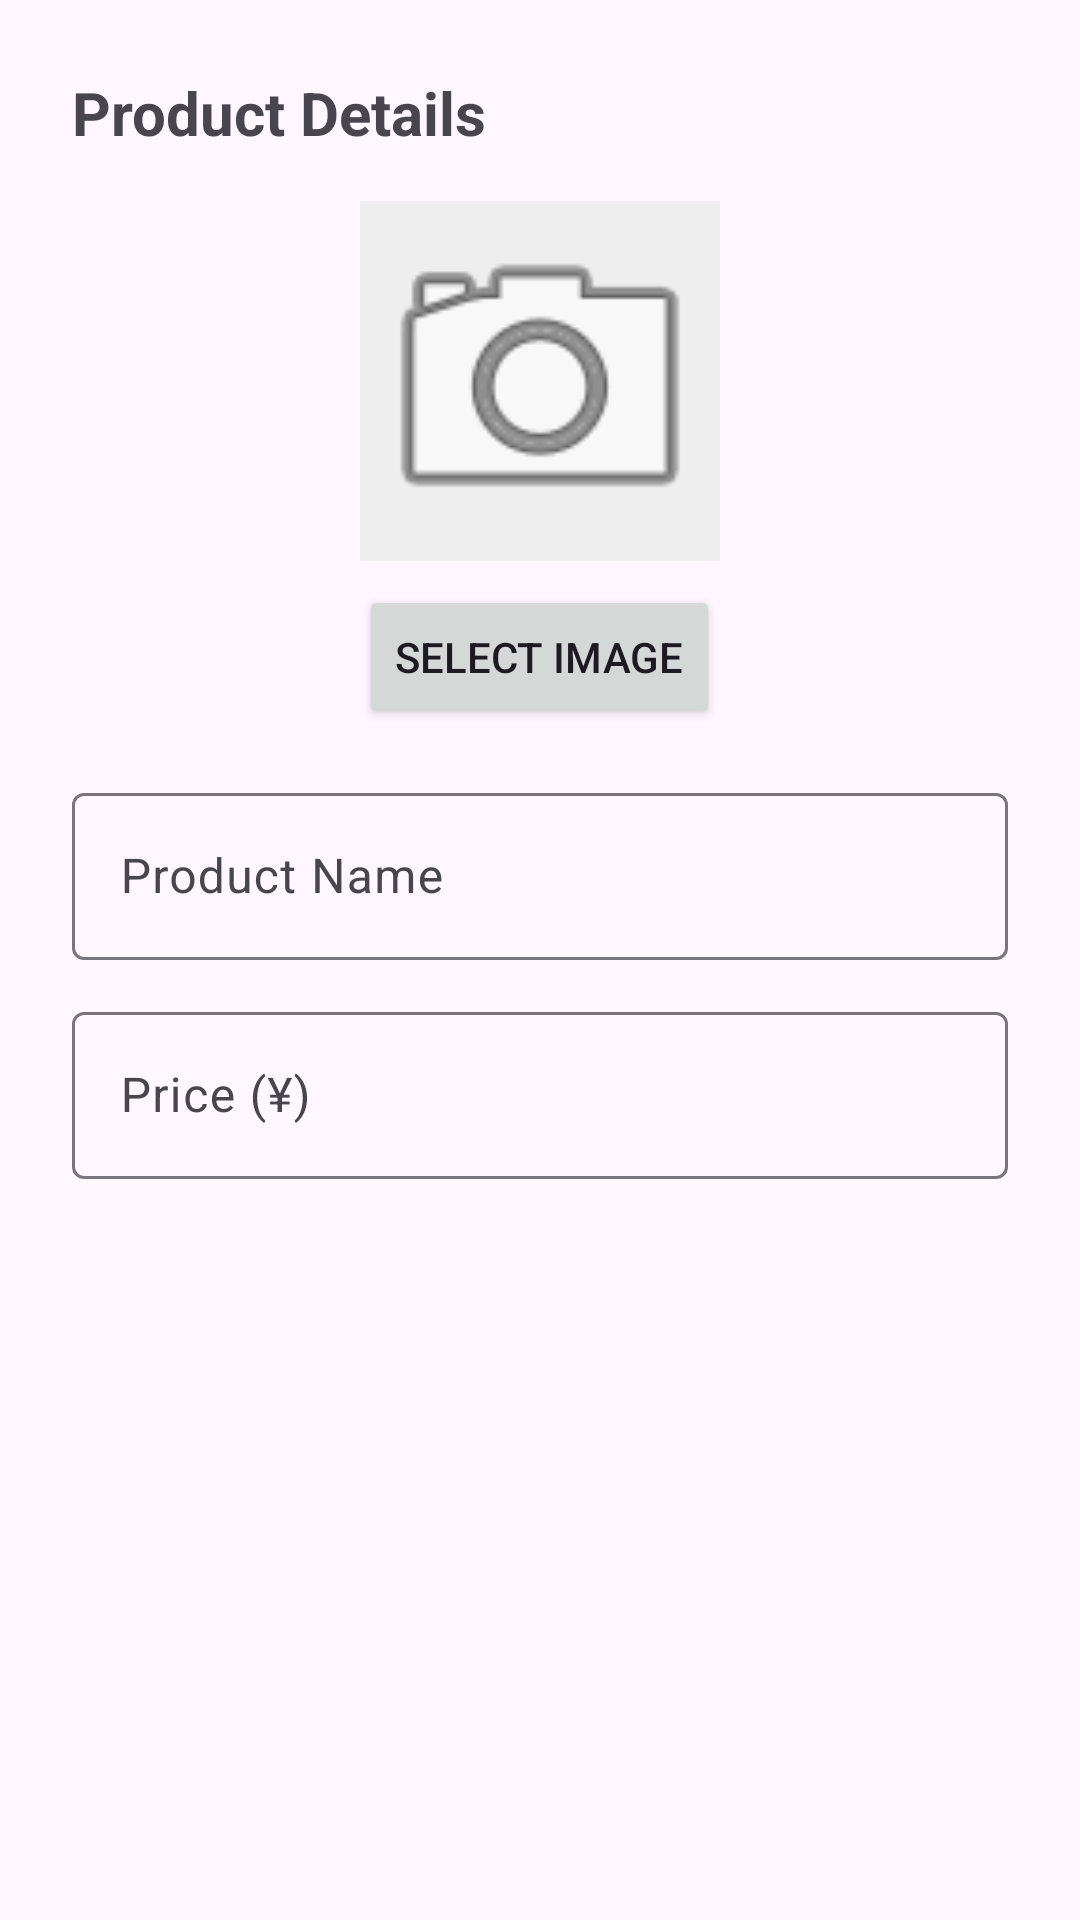

Where to tap for icons on this 1080w x 1920h app screen, as (x=x, y=y):
camera: (x=540, y=381)
